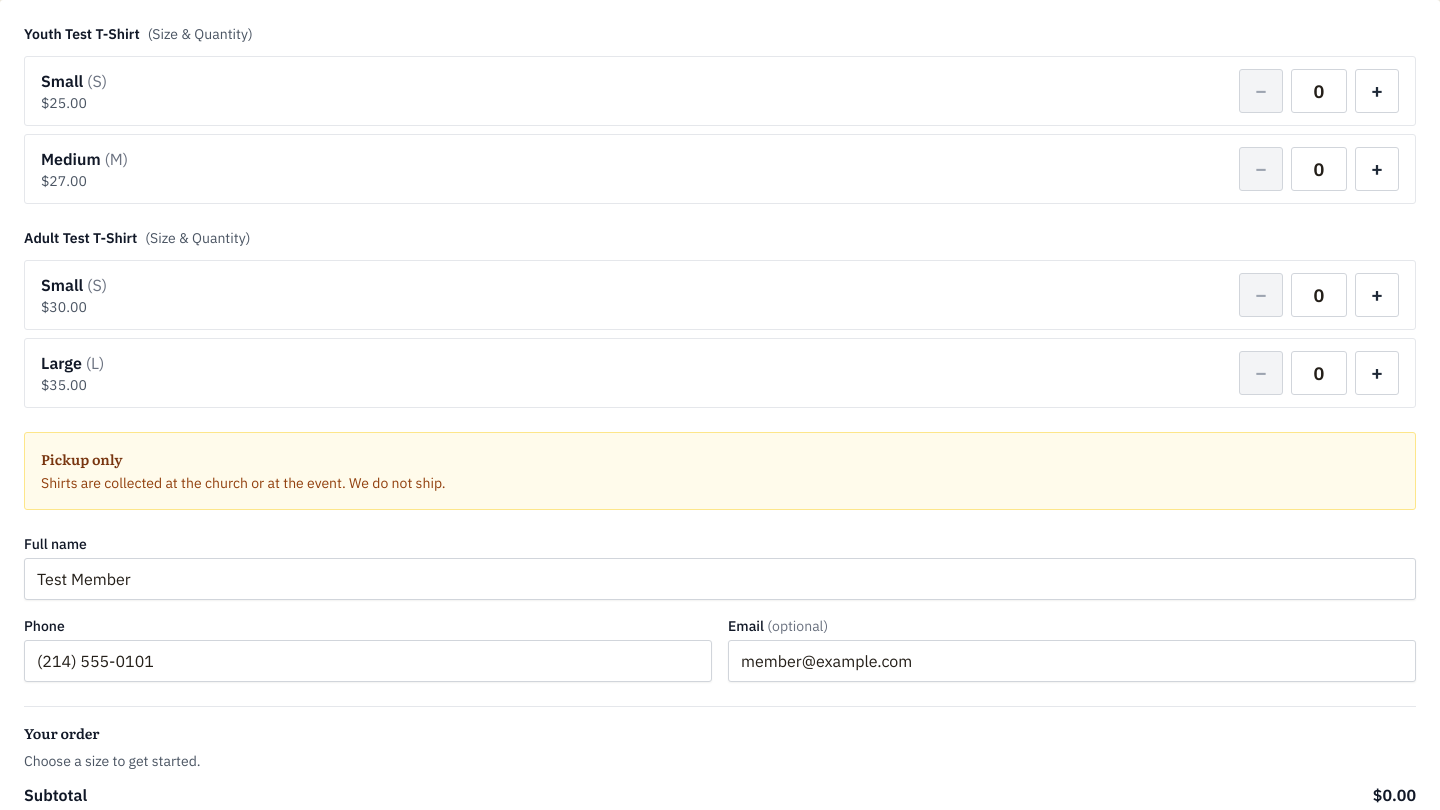
ShirtOrderForm — prefill for a signed-in member › keeps prefilled fields editable
The width and height of the screenshot is (1440, 810).
Replace the text in the field labelled "Phone" with "+12145550199" at [368, 661], box x1=24 y1=640 x2=712 y2=682
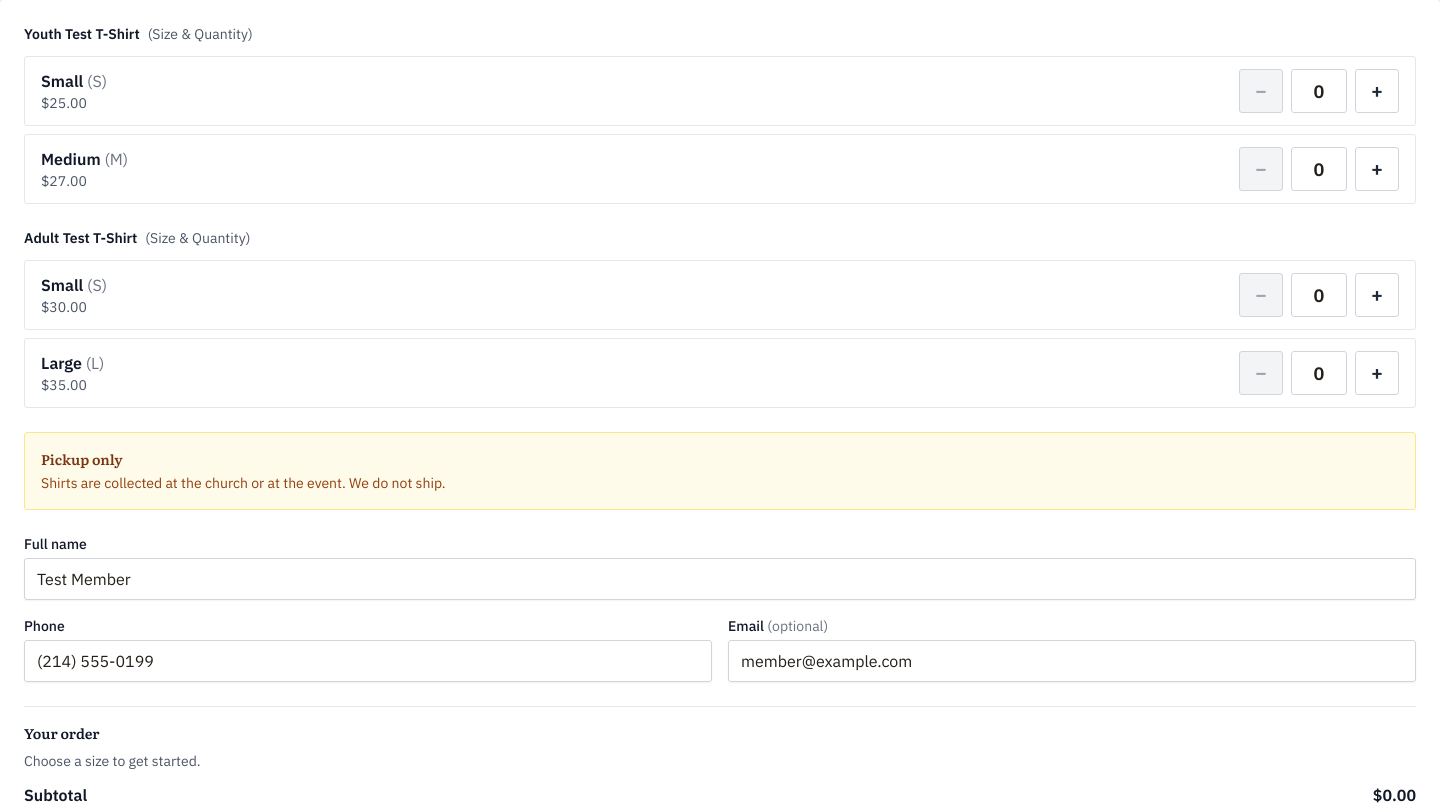
Expected: the field labelled "Phone" holds "(214) 555-0199", x1=24 y1=640 x2=712 y2=682
